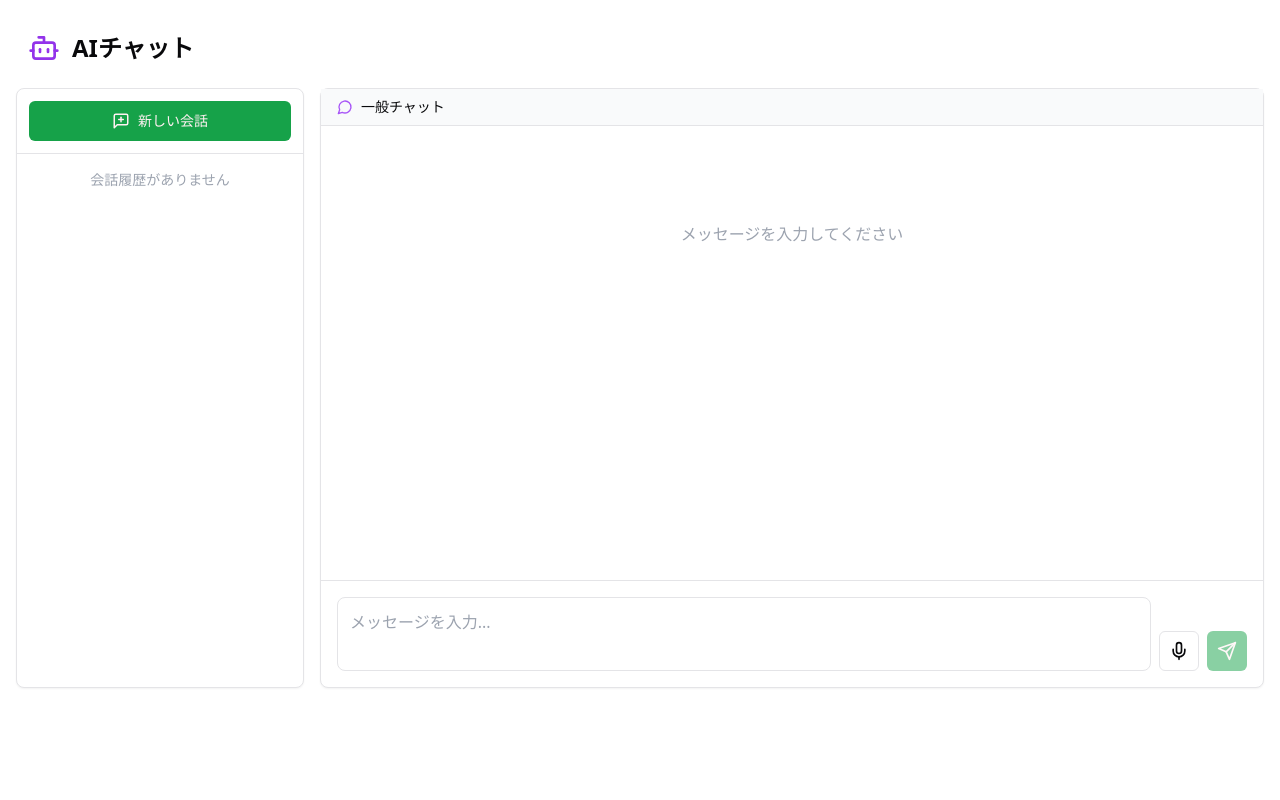
Test case: GeminiChatPage › 新しい会話 › should open topic modal when clicking new conversation button
Click the button "新しい会話". click: (160, 121)
box: x1=29 y1=101 x2=291 y2=141
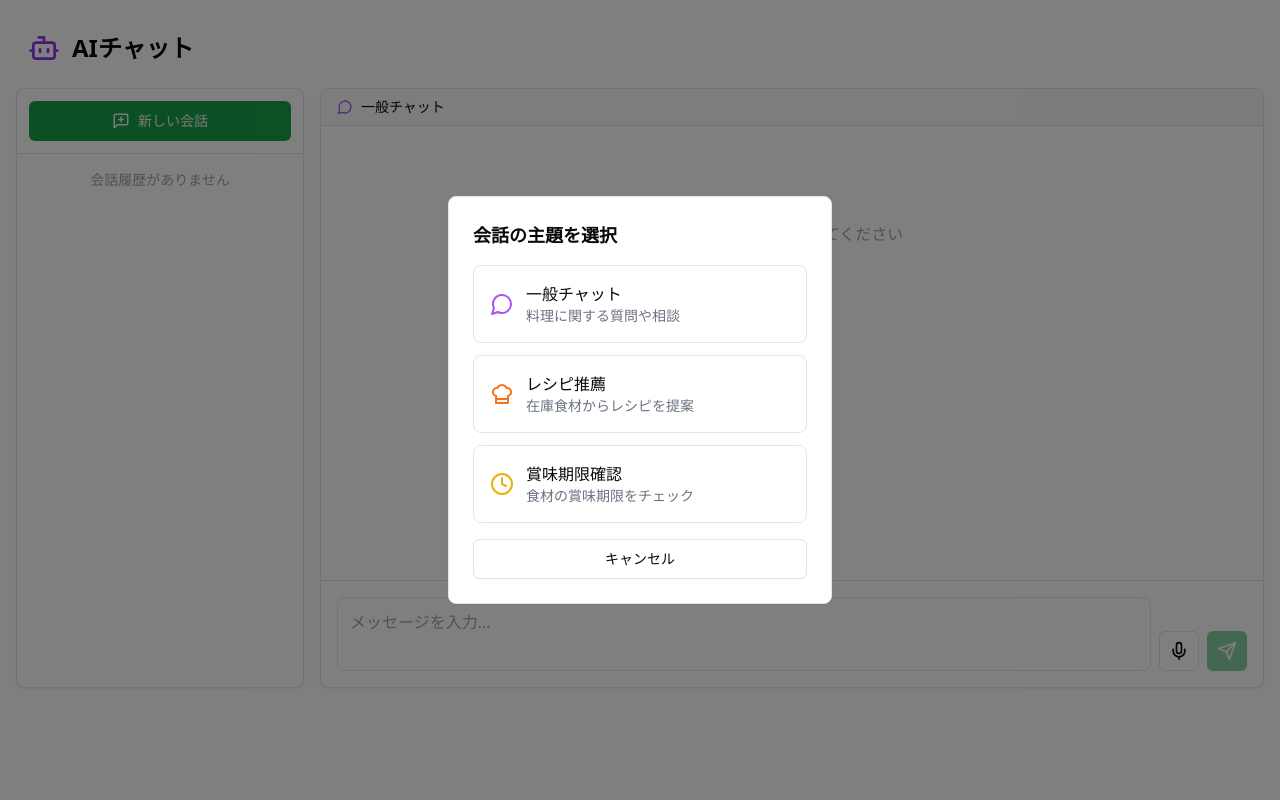
Expected: the heading "会話の主題を選択" is shown, x1=473 y1=223 x2=617 y2=247
Expected: the text "レシピ推薦" is shown, x1=526 y1=373 x2=606 y2=395
Expected: the text "賞味期限確認" is shown, x1=526 y1=463 x2=622 y2=485
